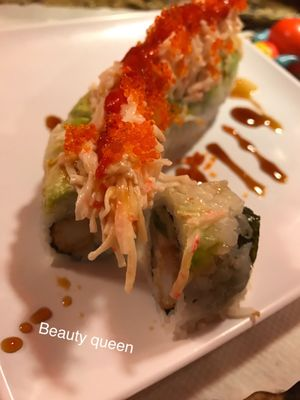sandwich: (38, 0, 247, 337)
